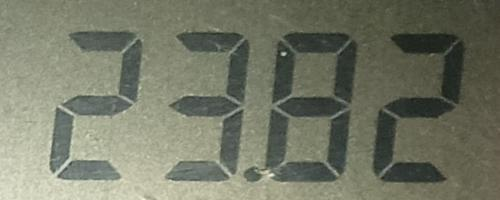.: (241, 164, 266, 187)
